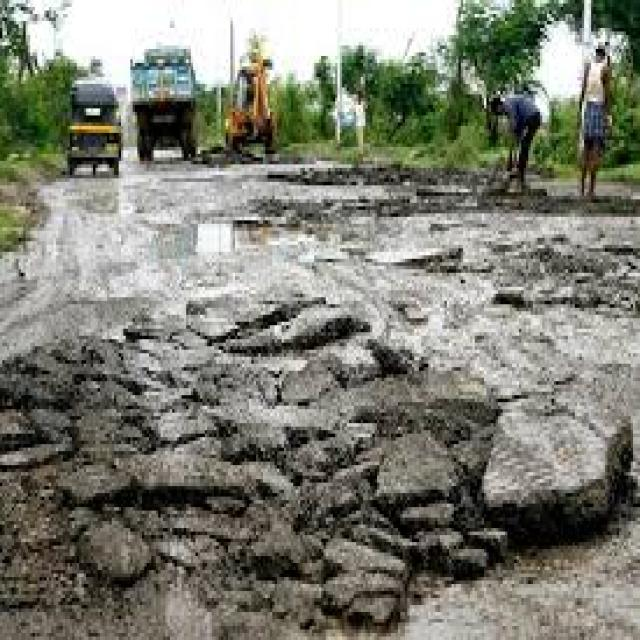Pothole: (0, 217, 640, 640)
